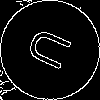U: (25, 25, 82, 77)
